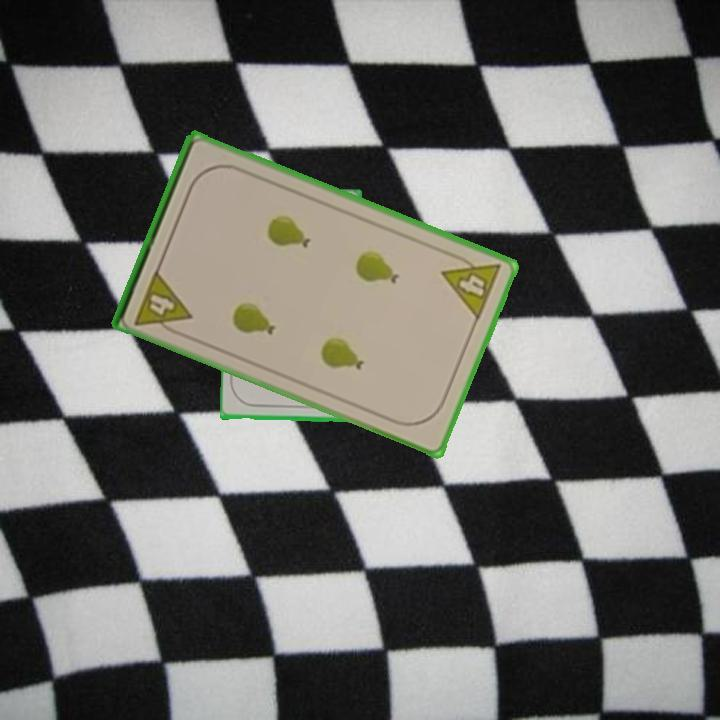4p: (438, 248, 504, 323), (131, 266, 195, 339)
